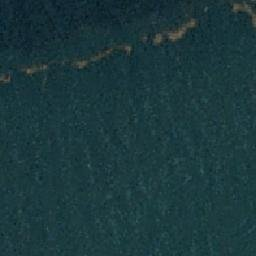debris: (70, 49, 108, 71), (228, 1, 256, 19), (169, 19, 196, 37), (24, 60, 52, 75), (148, 32, 173, 45), (1, 68, 16, 83), (116, 45, 134, 54)
